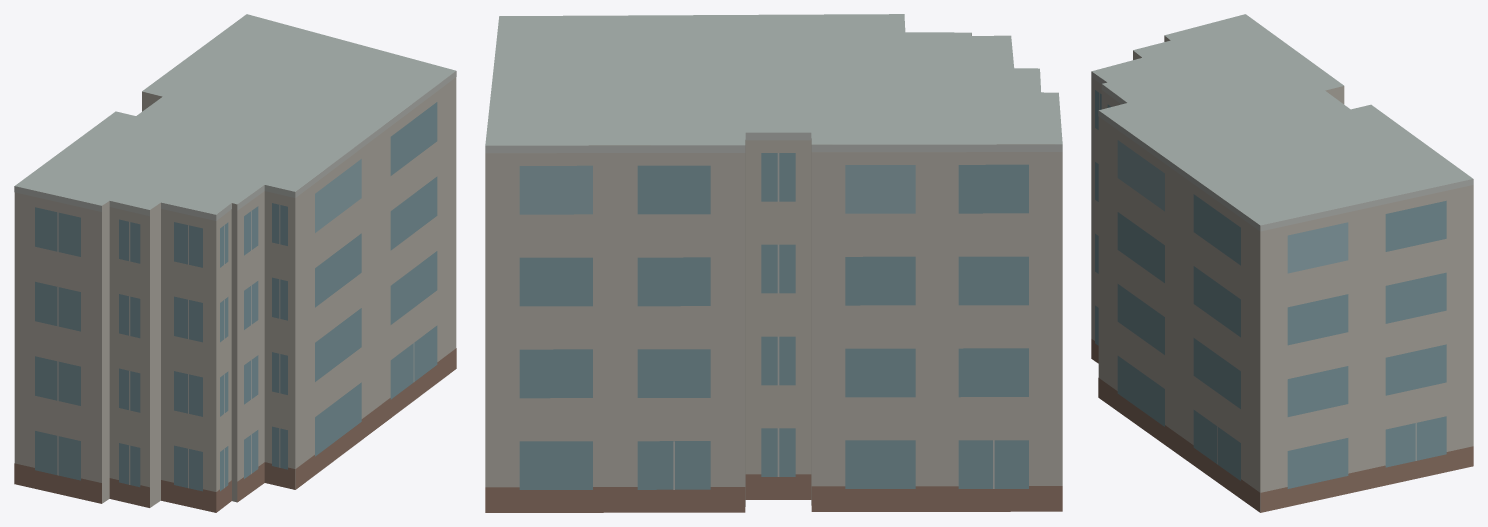
Rendered from survey-upis-32968806.glb.
3 views of the same model, side by side, from view 1: azimuth 30°, elevation 25°; view 2: azimuth 150°, elevation 25°; view 3: azimuth 270°, elevation 25° (orthographic). The views are drawn at different scales.
Visible parts, largest first — view 1: survey-upis-32968806.tmp; view 2: survey-upis-32968806.tmp; view 3: survey-upis-32968806.tmp.
Boxes of the visible parts, x1,y1,x2,y2 form: survey-upis-32968806.tmp: (14, 14, 456, 512); survey-upis-32968806.tmp: (485, 14, 1062, 512); survey-upis-32968806.tmp: (1091, 14, 1473, 512).
Bounding box in the file's own units: 18.48 × 11.7 × 14.11.
